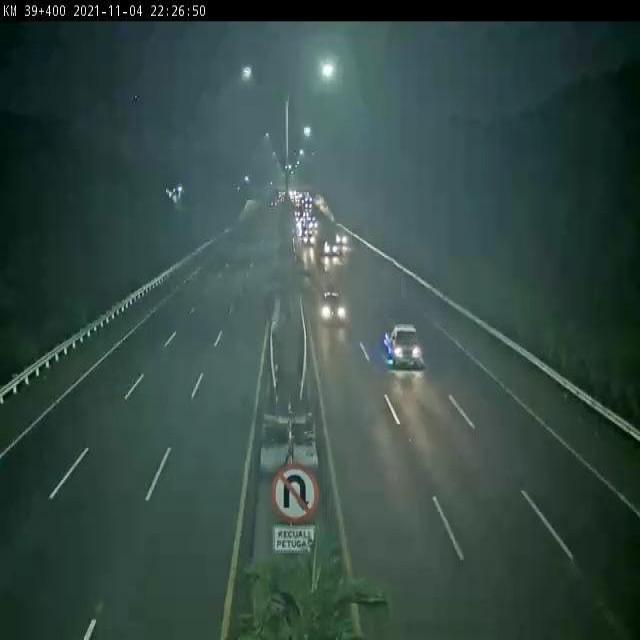car: (318, 290, 346, 326)
truck-m-: (385, 324, 423, 369)
